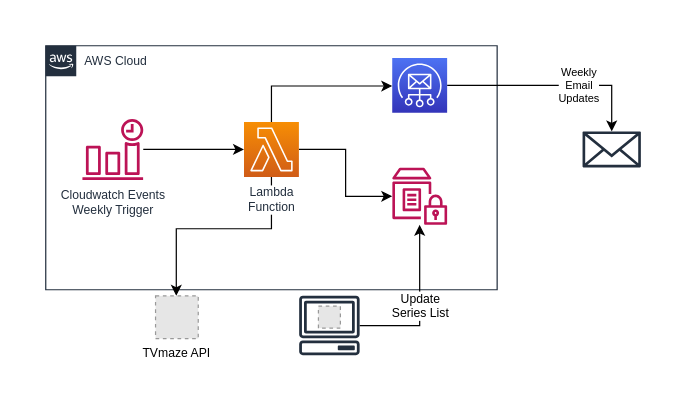
This 676x407 diagram has some shape labels left out. Grey dashed boxes stand in for pictures. Here are the shapes that lost their labels. From the top down, the centre of each, then its label:
At [419,85]: "Amazon SES".
At [419,195]: "Systems Manager Parameter Store".
